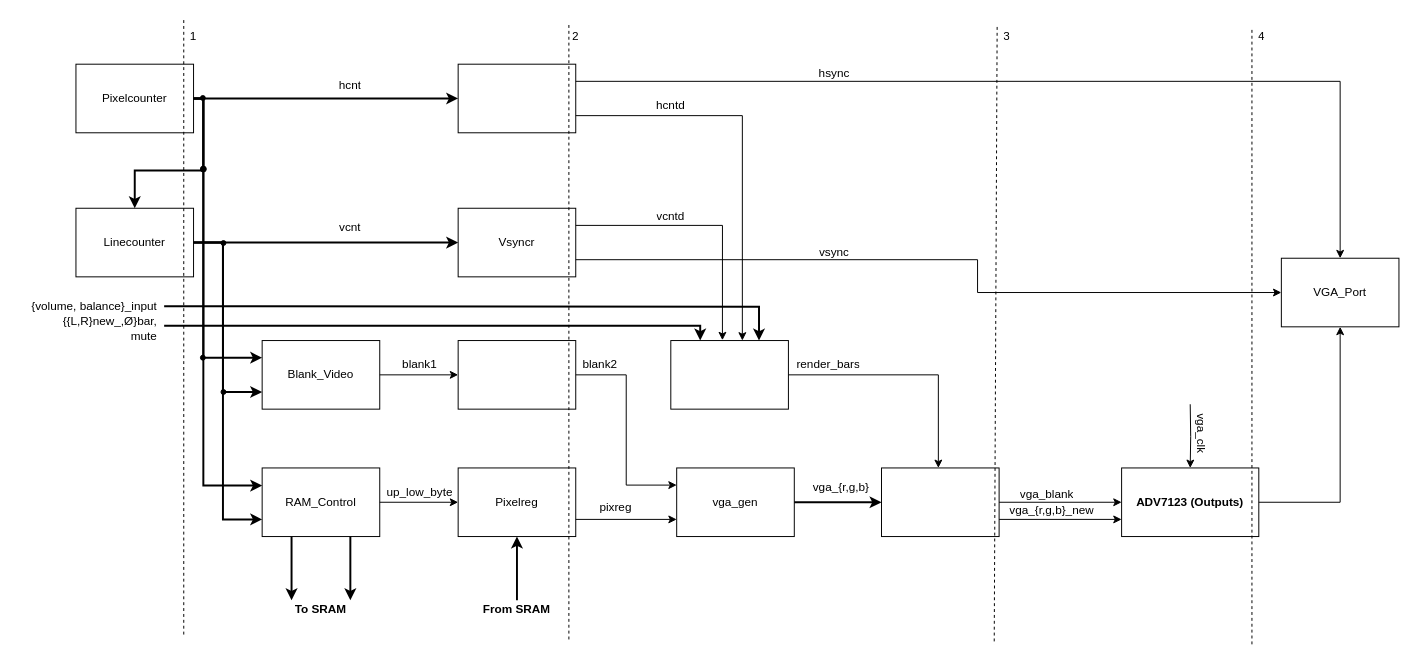
Some shapes in this 1416 by 662 pixel diagram are drawn without their labels. Each missing label, with the box of its shape:
Bar_Mixer: (881, 467, 999, 537)
Bar_Tender: (670, 340, 788, 409)
Blanksyncr: (457, 340, 576, 409)
Hsyncr: (457, 63, 576, 133)
